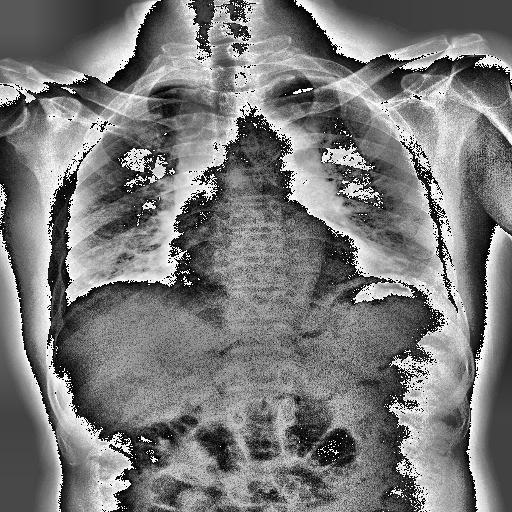0- Aortic enlargement: (172, 126, 320, 200), (230, 117, 322, 188), (252, 117, 324, 181)
3- Cardiomegaly: (156, 235, 376, 292), (160, 242, 378, 296), (155, 243, 384, 275)
